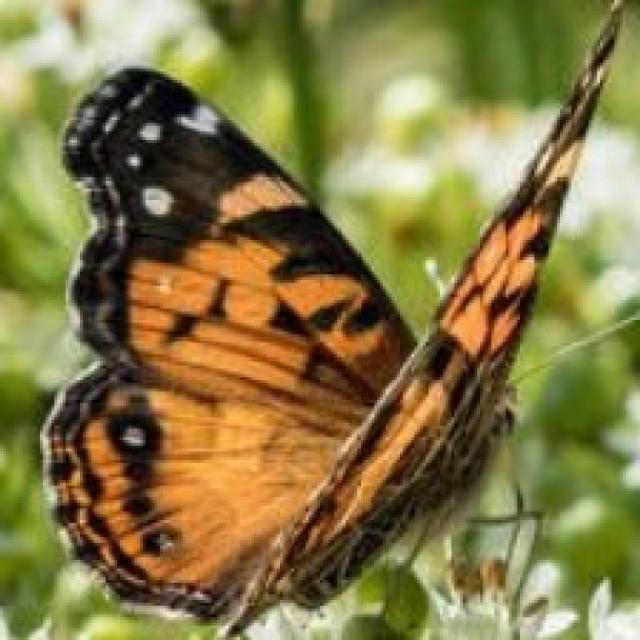butterfly: (34, 0, 637, 637)
